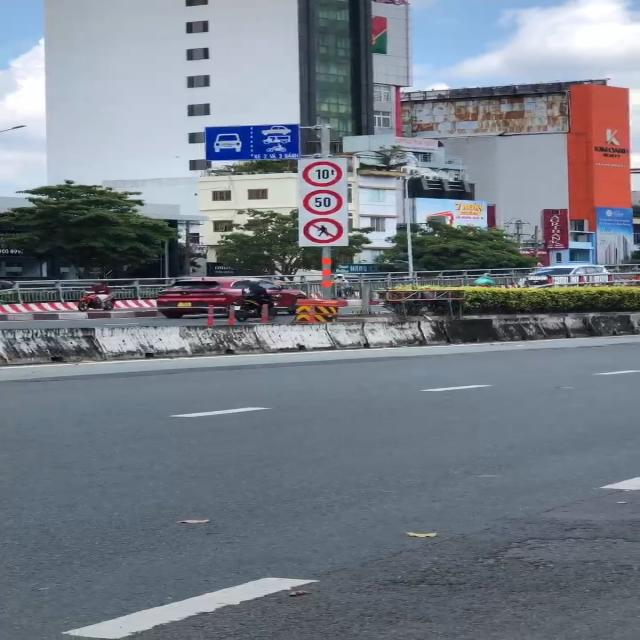Bien bao cam nguoi di bo: (302, 217, 346, 244)
Bien bao toc do toi da cho phep: (299, 188, 348, 216)
